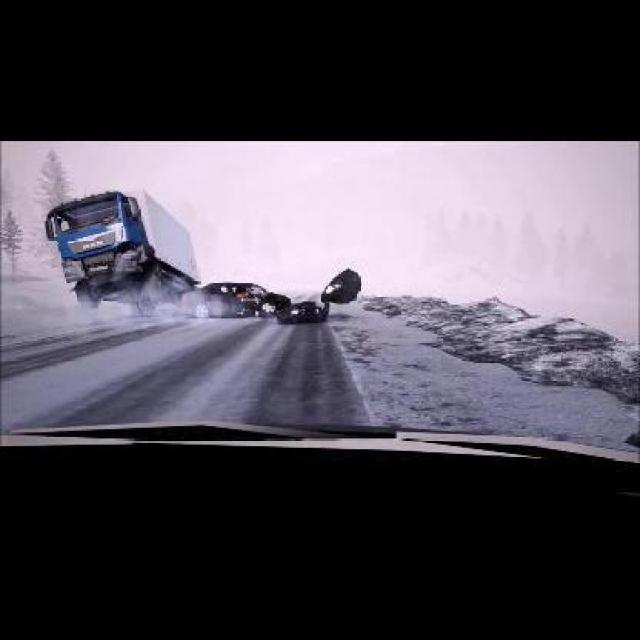accident: (38, 184, 294, 321)
